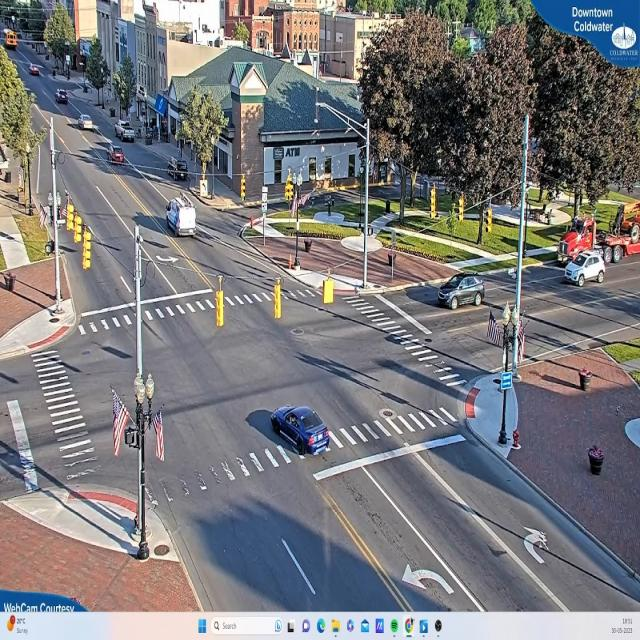car: (268, 406, 331, 458), (437, 274, 486, 309), (562, 250, 606, 286), (164, 199, 198, 240), (118, 121, 136, 145), (110, 148, 126, 164)
